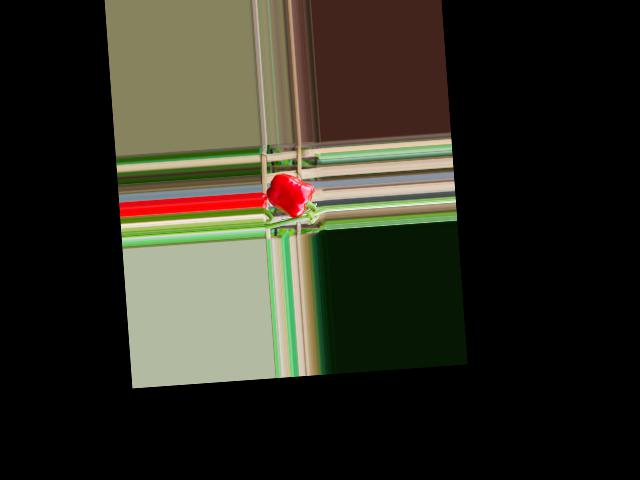bell_pepper: (265, 168, 316, 222)
